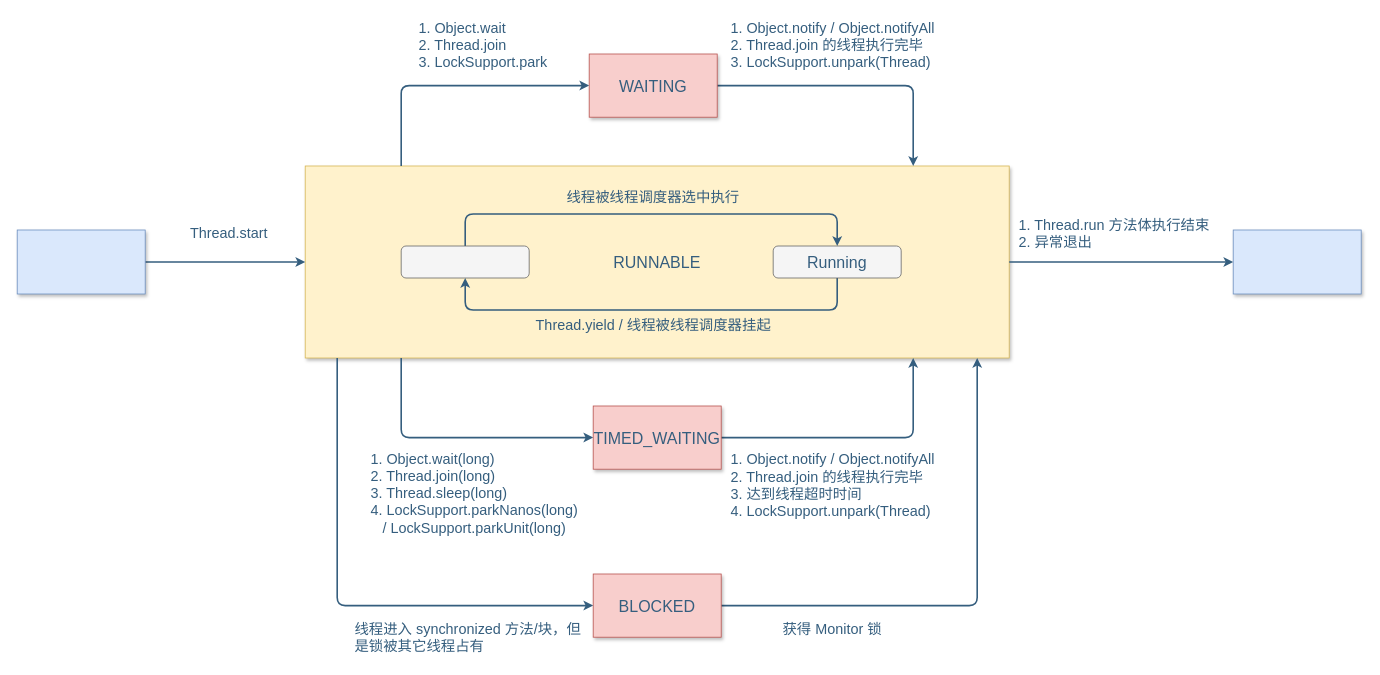
The diagram is 1380 pixels wide and 675 high, and some of its shapes have lost their labels. The centre of each missing label's shape, as x and y in pixels:
NEW: the point at 81,263
Ready: the point at 464,261
TERMINATED: the point at 1297,263
